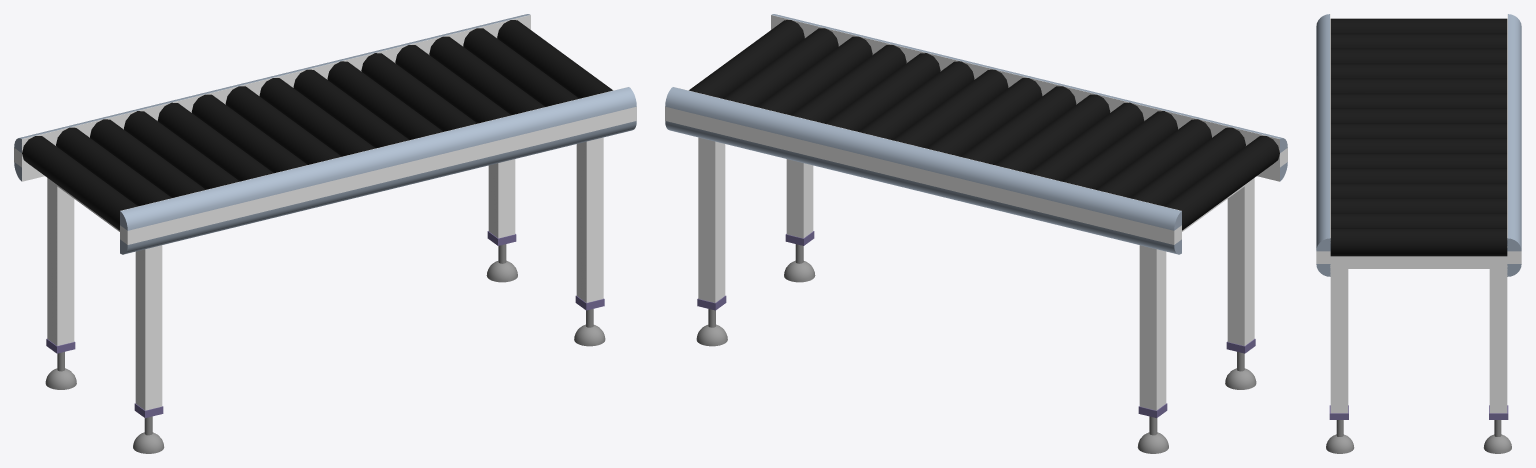
File: Conveyor2.obj
3 renders of one model, left to right at view 1: azimuth 30°, elevation 25°; view 2: azimuth 150°, elevation 25°; view 3: azimuth 270°, elevation 25°, orthographic. The views are drawn at different scales.
Visible parts, largest first — view 1: Conveyor2; view 2: Conveyor2; view 3: Conveyor2.
Part boxes in pixels (bbox=[...]): Conveyor2: bbox=[14, 14, 636, 453]; Conveyor2: bbox=[665, 14, 1287, 453]; Conveyor2: bbox=[1316, 14, 1521, 453].
Size of the model in its own units: 1500 by 700 by 580.
